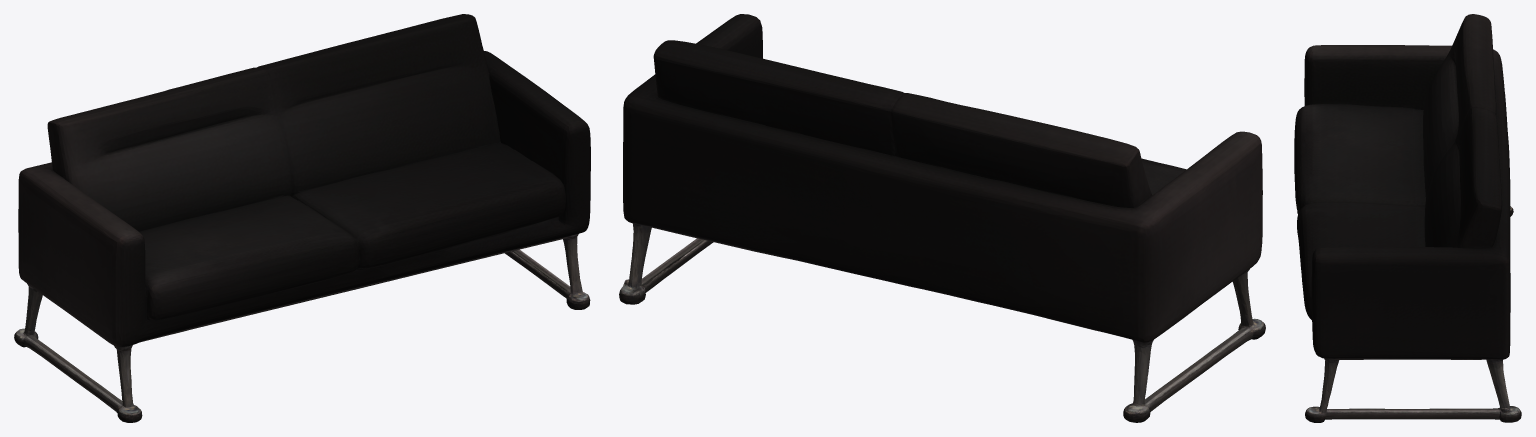
The model's file is sofa2.glb.
3 views of the same model, side by side, from view 1: azimuth 30°, elevation 25°; view 2: azimuth 150°, elevation 25°; view 3: azimuth 270°, elevation 25° (orthographic). The views are drawn at different scales.
Parts seen in each view (by area): view 1: world; view 2: world; view 3: world.
Boxes of the visible parts, bbox=[...] form: world: bbox=[14, 14, 590, 422]; world: bbox=[619, 14, 1265, 422]; world: bbox=[1294, 14, 1521, 422].
Bounding box in the file's own units: 0.9972 × 0.4578 × 0.4452.
Materials: 1 (1 with a texture image).
